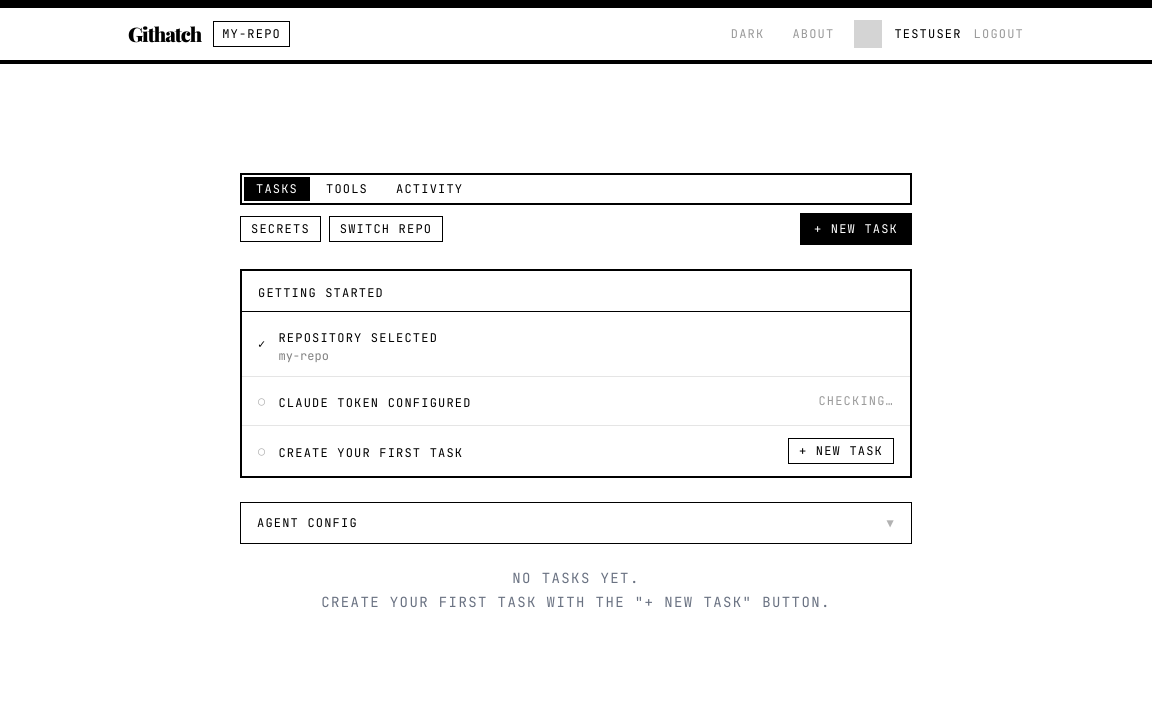
Test: App — view navigation › navigates to About page
Click the button "About".
click(813, 34)  # box [784,26,842,42]
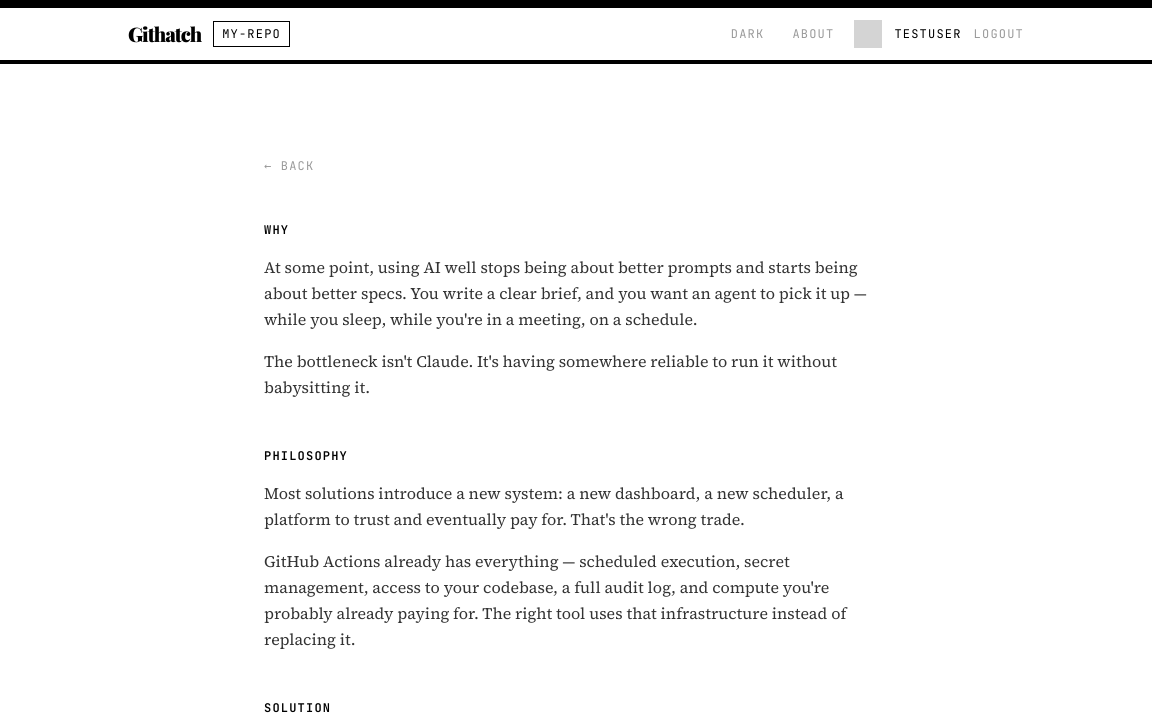
Expected: the heading "Why" is shown, [264,222,289,238]
